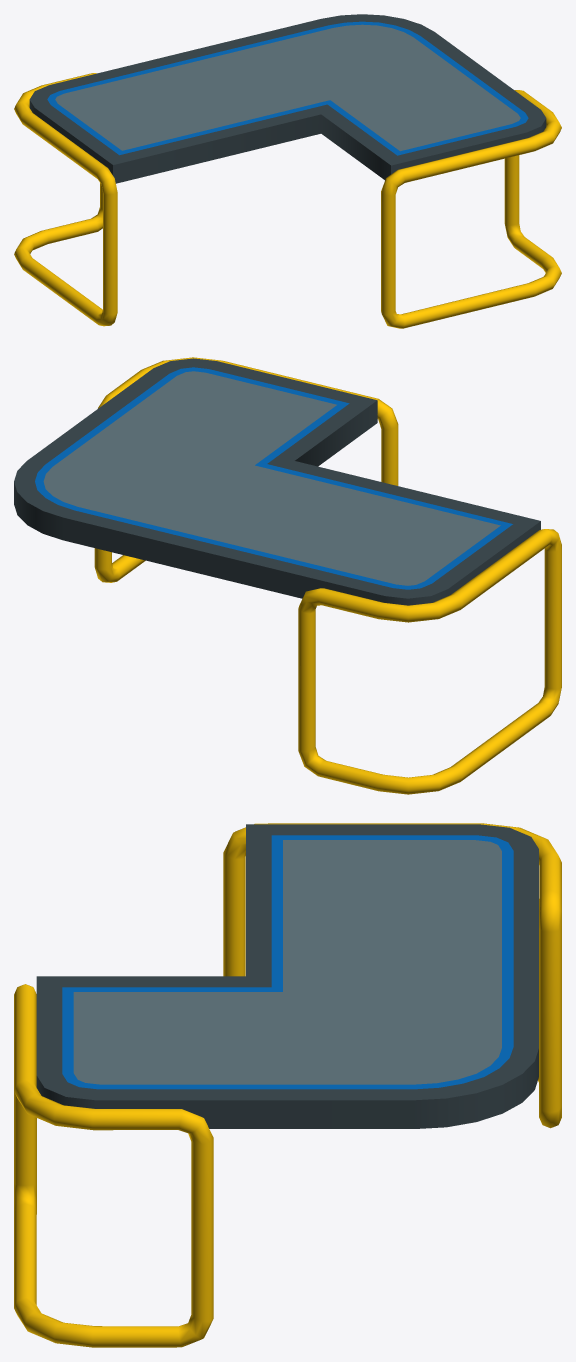
The model's file is Table_003.fbx.
3 views of the same model, one above another, from view 1: azimuth 30°, elevation 25°; view 2: azimuth 150°, elevation 25°; view 3: azimuth 270°, elevation 25° (orthographic). The views are drawn at different scales.
Parts seen in each view (by area): view 1: Table_003; view 2: Table_003; view 3: Table_003.
Boxes of the visible parts, x1,y1,x2,y2 form: Table_003: (14, 14, 561, 328); Table_003: (14, 357, 561, 794); Table_003: (14, 823, 561, 1347).
Size of the model in its own units: 232 by 182 by 88.92.
